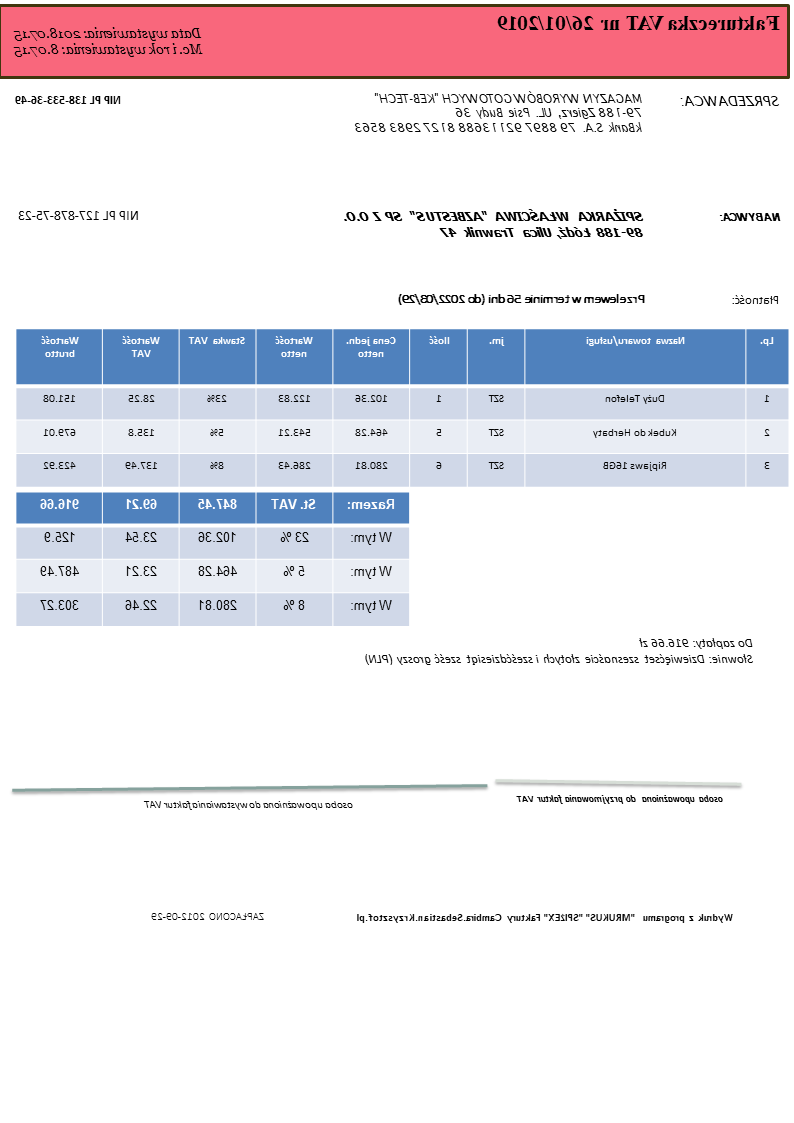Table: (14, 328, 791, 488), (15, 491, 410, 628)
TextBox: (353, 90, 646, 137), (363, 636, 756, 668), (340, 205, 646, 241), (354, 908, 736, 927), (12, 24, 205, 60), (495, 10, 782, 34), (398, 291, 648, 308), (142, 796, 358, 812), (514, 791, 726, 807), (19, 205, 144, 224), (13, 91, 125, 108), (150, 908, 267, 924), (680, 92, 783, 110), (720, 208, 784, 225), (729, 291, 782, 308)
